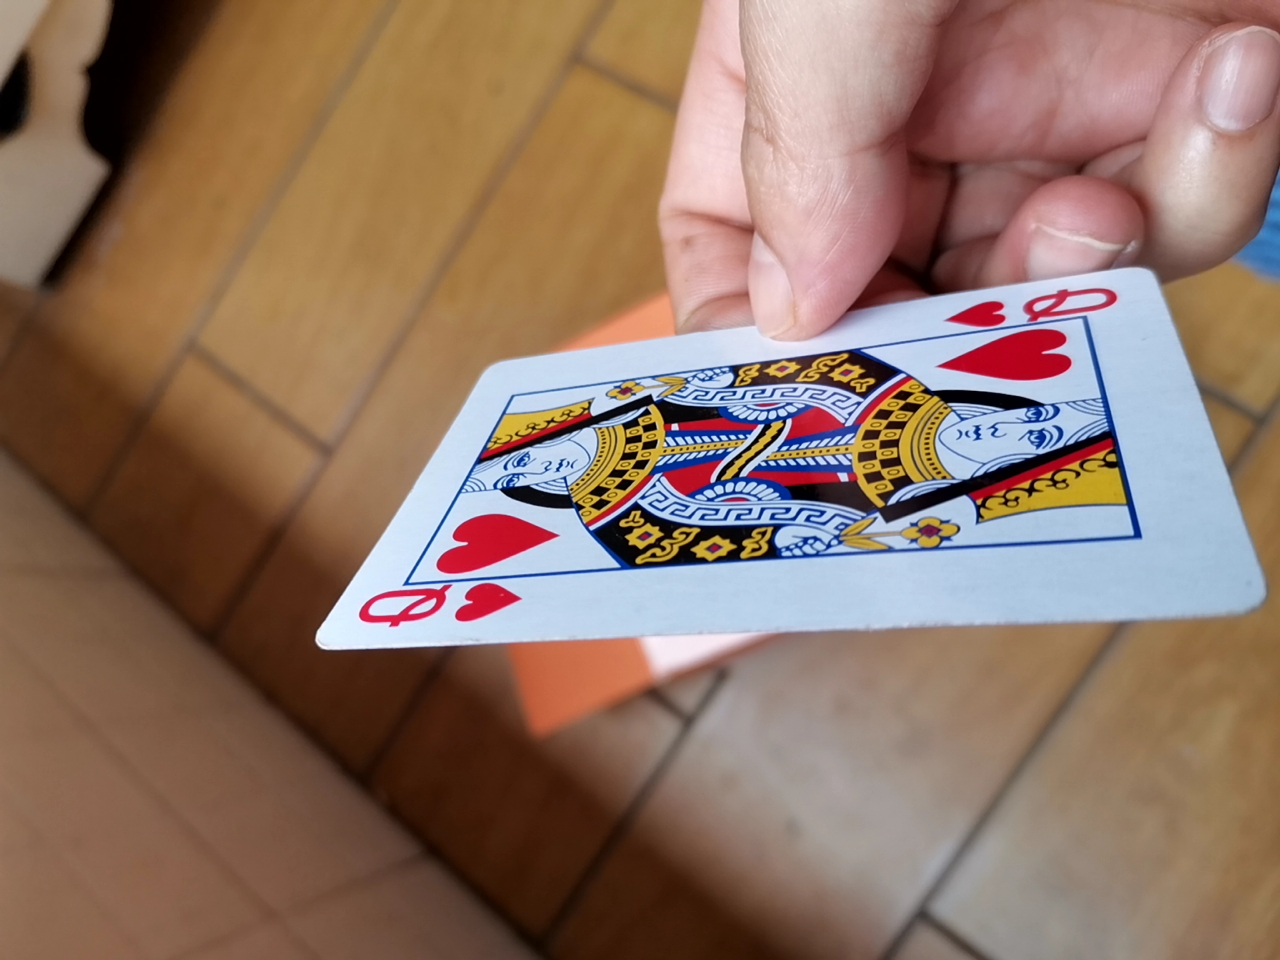hx q: (284, 266, 1269, 665)
